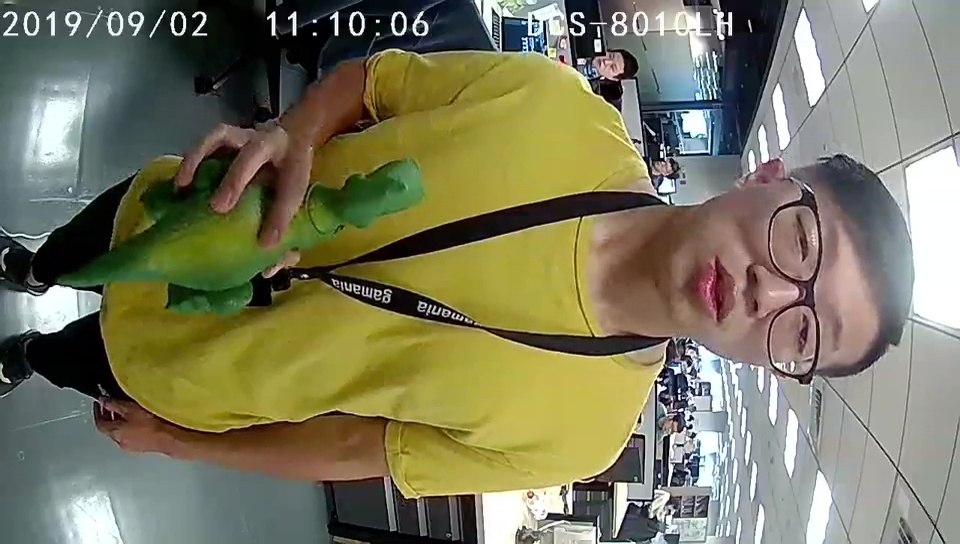rex: (168, 157, 425, 315)
